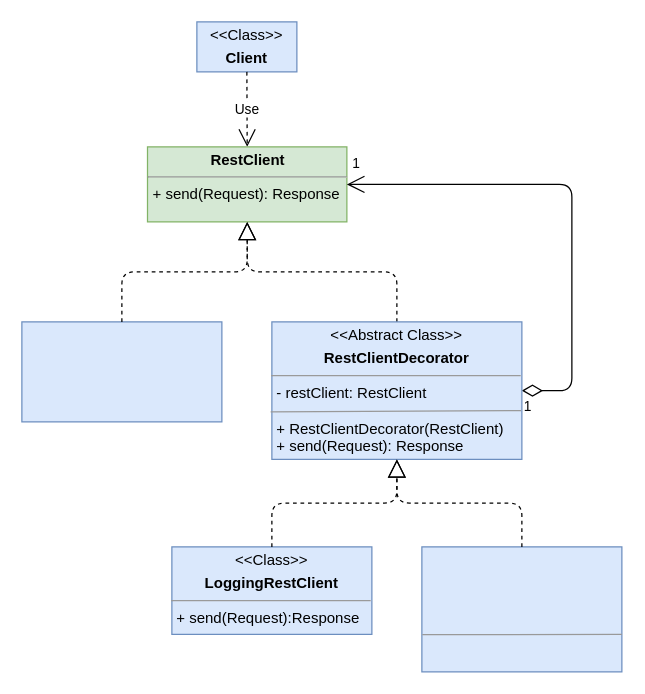
This 645x694 diagram has some shape labels left out. The box of each missing label's shape, as (x1, y1, x2, y2) in pixels:
<<Class>> DbWritingRestClient - dao: Dao + send(Request): Response: (421, 546, 622, 672)
<<Class>> RestClientImpl + send(Request): Response: (21, 321, 222, 422)
